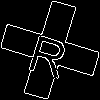R: (25, 25, 73, 79)
